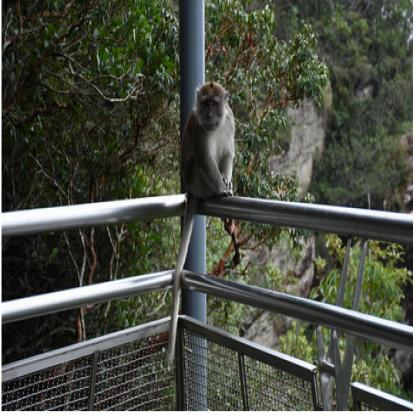monkey: (168, 76, 236, 358)
